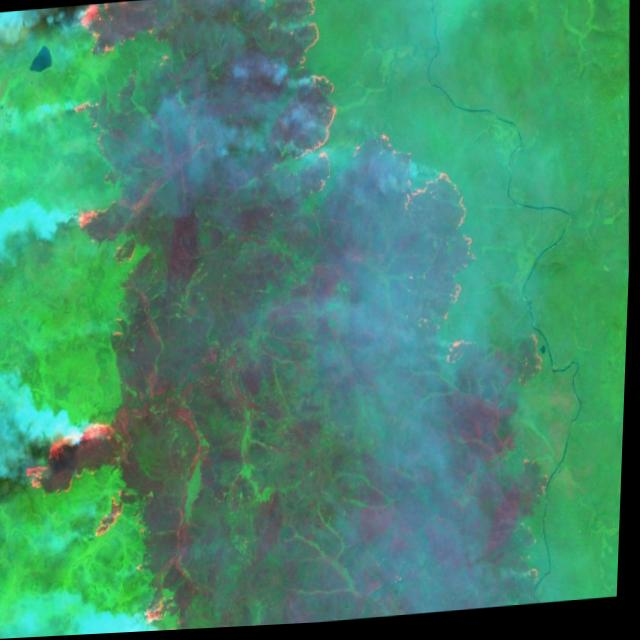fire: (6, 0, 205, 639), (368, 127, 487, 378), (254, 0, 345, 209)
